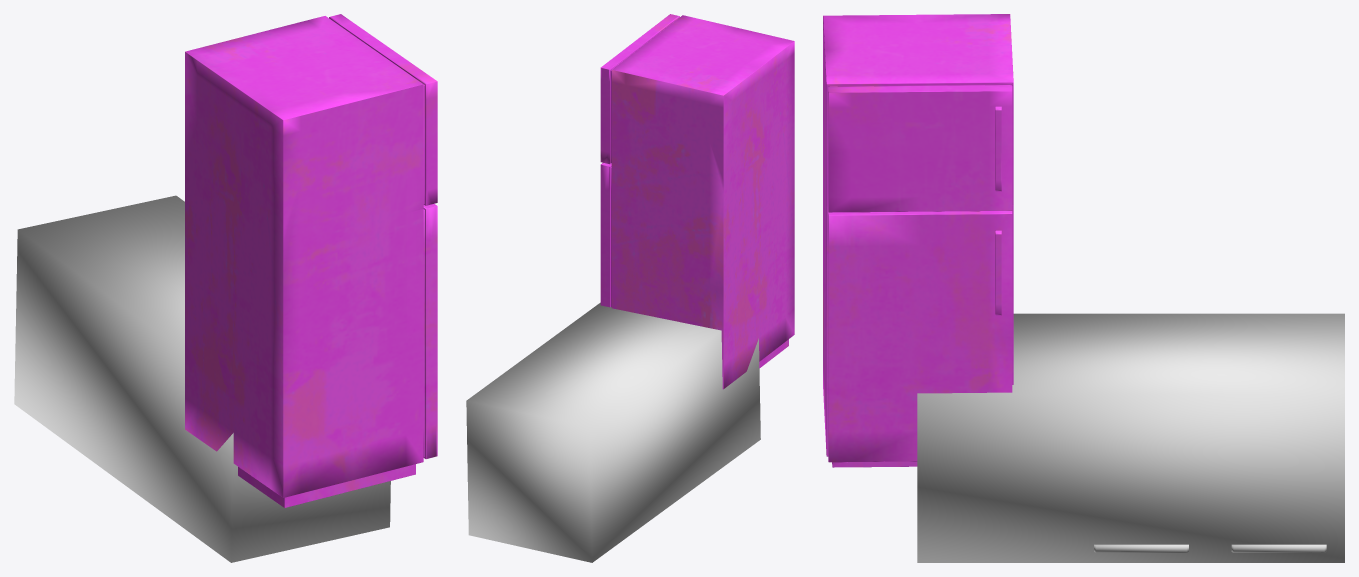
The model's file is SM_Fridge.fbx.
3 renders of one model, left to right at view 1: azimuth 30°, elevation 25°; view 2: azimuth 150°, elevation 25°; view 3: azimuth 270°, elevation 25°, orthographic. The views are drawn at different scales.
Visible parts, largest first — view 1: SM_Fridge, SM_Fridge_ConvexHulls; view 2: SM_Fridge, SM_Fridge_ConvexHulls; view 3: SM_Fridge_ConvexHulls, SM_Fridge.
Part boxes in pixels (x1,y1,x2,y2): SM_Fridge: (185, 14, 437, 507); SM_Fridge_ConvexHulls: (14, 195, 390, 562); SM_Fridge: (600, 14, 794, 389); SM_Fridge_ConvexHulls: (466, 302, 760, 562); SM_Fridge_ConvexHulls: (917, 313, 1344, 562); SM_Fridge: (823, 14, 1013, 467).
Bounding box in the file's own units: 0.8615 × 2.44 × 2.44.
